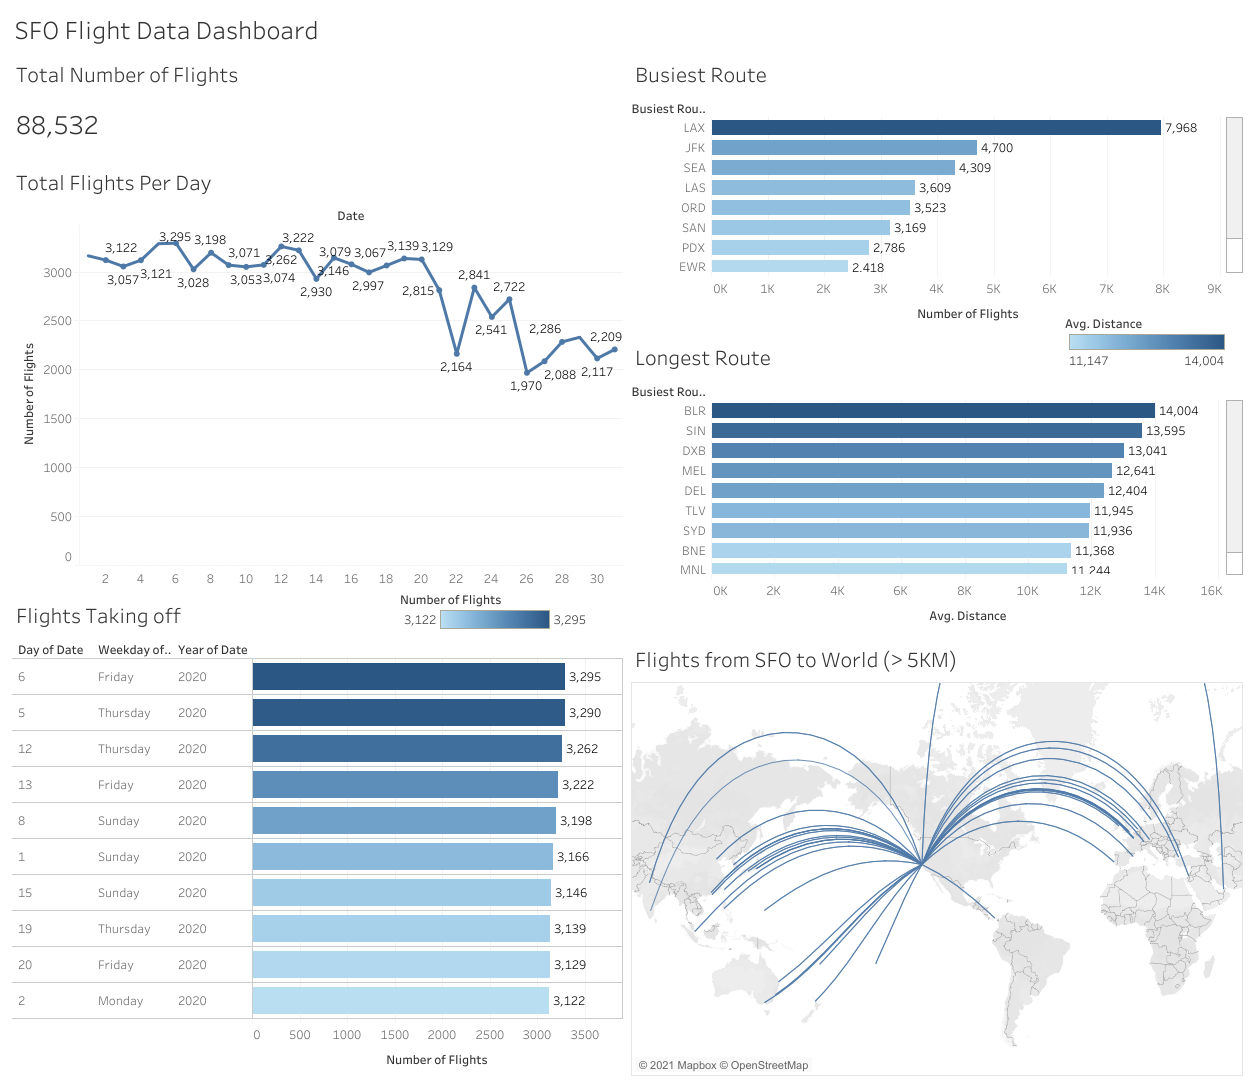

This screenshot's page, from the dashboard's own definition file:
{"tool":"tableau","page":{"name":"SFO Flight Data Dashboard","canvas":[1000,1000],"units":"permille","ordinal":0},"visuals":[{"type":"worksheet","box":[0,0,1000,1000]},{"type":"worksheet","param":"vert","box":[7.5,6.4,985,987.3]},{"type":"worksheet","box":[7.5,6.4,985,33.4]},{"type":"worksheet","param":"horz","box":[7.5,39.8,985,953.9]},{"type":"worksheet","box":[7.5,39.8,985,953.9]},{"type":"worksheet","title":"Total Number of Flights","mark":"Automatic","box":[7.5,39.8,492,99.8]},{"type":"worksheet","title":"Busiest Route","mark":"Automatic","rows":["Calculation_107945708769624065"],"cols":["Calculation_107945708764463104"],"box":[499.5,39.8,493,261.9]},{"type":"worksheet","title":"Total Flights Per Day","mark":"Automatic","rows":["Calculation_107945708764463104"],"cols":["Date"],"box":[7.5,139.6,492,400.9]},{"type":"worksheet","title":"Longest Route","mark":"Automatic","rows":["Calculation_107945708769624065"],"cols":["Calculation_107945708770742276"],"param":"[federated.1gnyo511ygd78y19y219h1ppneyr].[avg:Calculation_107945708770742276:qk]","box":[848.5,284.6,131,60.4]},{"type":"worksheet","title":"Longest Route","mark":"Automatic","rows":["Calculation_107945708769624065"],"cols":["Calculation_107945708770742276"],"box":[499.5,301.6,493,280.2]},{"type":"worksheet","title":"Flights Taking off","mark":"Bar","rows":["Date","Date","Date"],"cols":["Calculation_107945708764463104"],"param":"[federated.1gnyo511ygd78y19y219h1ppneyr].[sum:Calculation_107945708764463104:qk]","box":[319,538.2,151.5,46.9]},{"type":"worksheet","title":"Flights Taking off","mark":"Bar","rows":["Date","Date","Date"],"cols":["Calculation_107945708764463104"],"box":[7.5,540.5,492,453.2]},{"type":"worksheet","title":"Flights from SFO to World (> 5KM)","mark":"Automatic","box":[499.5,581.9,493,411.8]}]}

Visuals, with their boxes on the dashboard's canvas, which has no fixed pixel size, in thousandths of its width and height (x1, y1, x2, y2). These are canvas units, not pixel positions in the 1254x1087 screenshot, which may show the page scaled, cropped or inside an application window:
worksheet: (x1=0, y1=0, x2=1000, y2=1000)
worksheet: (x1=8, y1=6, x2=992, y2=994)
worksheet: (x1=8, y1=6, x2=992, y2=40)
worksheet: (x1=8, y1=40, x2=992, y2=994)
worksheet: (x1=8, y1=40, x2=992, y2=994)
"Total Number of Flights" worksheet: (x1=8, y1=40, x2=500, y2=140)
"Busiest Route" worksheet: (x1=500, y1=40, x2=992, y2=302)
"Total Flights Per Day" worksheet: (x1=8, y1=140, x2=500, y2=540)
"Longest Route" worksheet: (x1=848, y1=285, x2=980, y2=345)
"Longest Route" worksheet: (x1=500, y1=302, x2=992, y2=582)
"Flights Taking off" worksheet (Bar marks): (x1=319, y1=538, x2=470, y2=585)
"Flights Taking off" worksheet (Bar marks): (x1=8, y1=540, x2=500, y2=994)
"Flights from SFO to World (> 5KM)" worksheet: (x1=500, y1=582, x2=992, y2=994)
